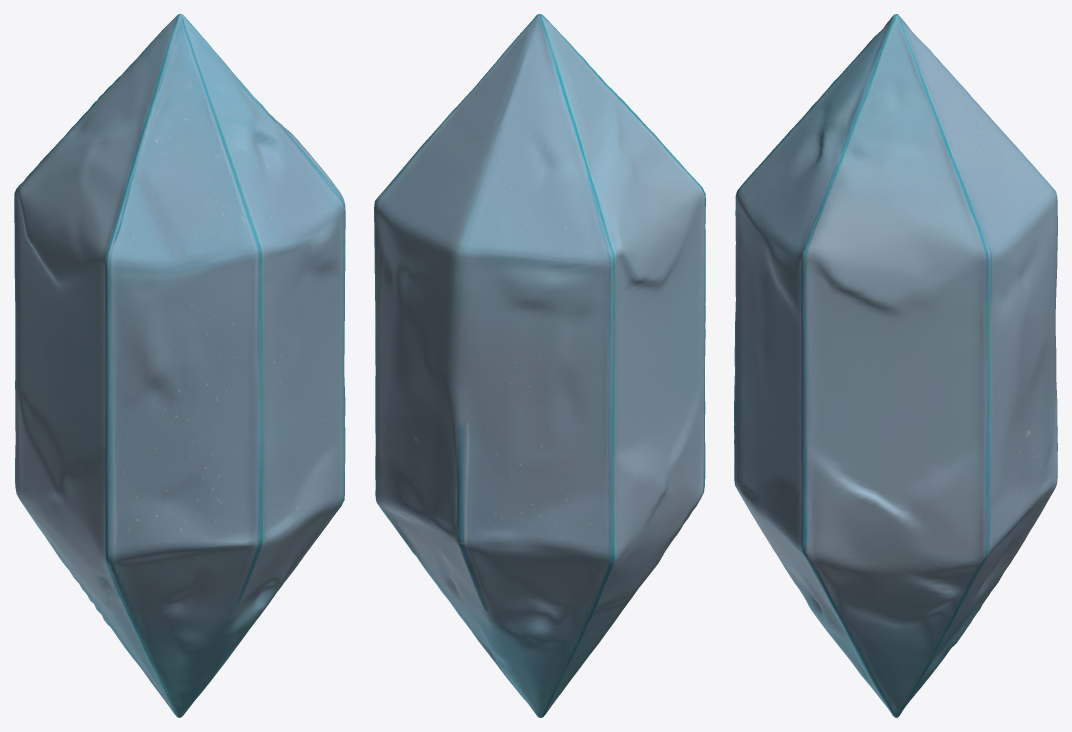
File: crystal.fbx
The picture shows the model from 3 angles, left to right: view 1: azimuth 30°, elevation 25°; view 2: azimuth 150°, elevation 25°; view 3: azimuth 270°, elevation 25°; orthographic projection.
Parts seen in each view (by area): view 1: tripo_node_bd4384c6; view 2: tripo_node_bd4384c6; view 3: tripo_node_bd4384c6.
Boxes of the visible parts, x1,y1,x2,y2 form: tripo_node_bd4384c6: (14,14,345,717); tripo_node_bd4384c6: (374,14,705,717); tripo_node_bd4384c6: (734,14,1057,717).
Size of the model in its own units: 37.14 by 99.78 by 41.65.
Materials: 1 (1 with a texture image).
